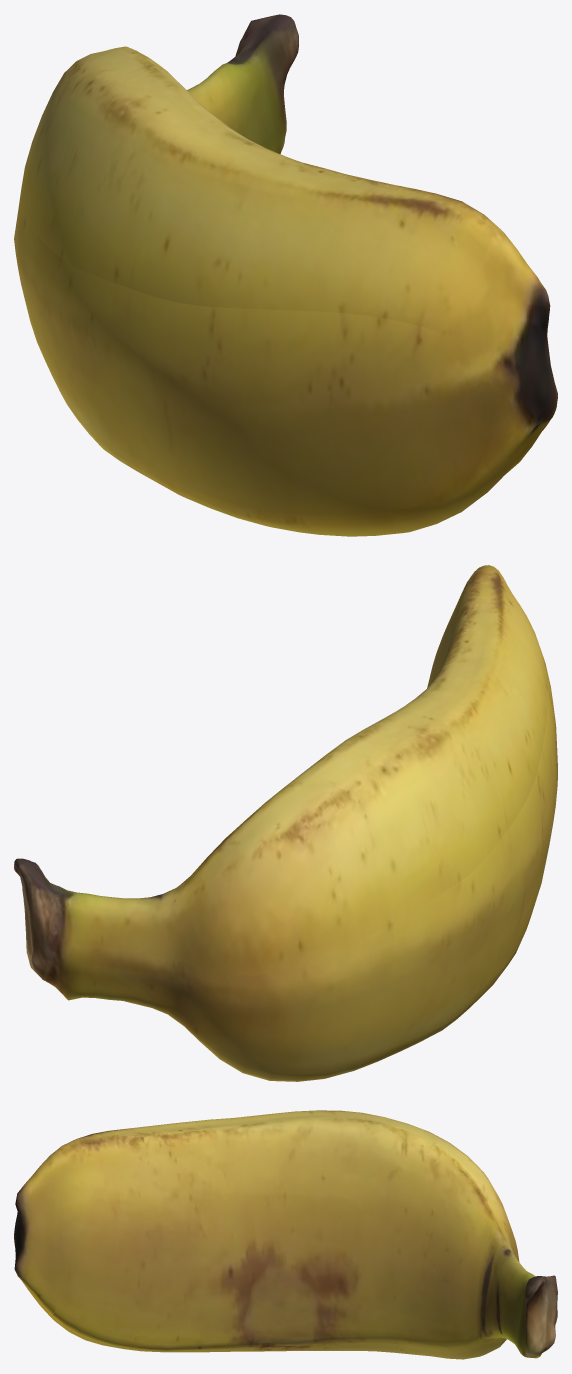
The model's file is banana.glb.
The picture shows the model from 3 angles, top to bottom: view 1: azimuth 30°, elevation 25°; view 2: azimuth 150°, elevation 25°; view 3: azimuth 270°, elevation 25°; orthographic projection. The views are drawn at different scales.
Parts seen in each view (by area): view 1: bananas_b.001; view 2: bananas_b.001; view 3: bananas_b.001.
Boxes of the visible parts, x1=… form: bananas_b.001: x1=14, y1=14, x2=557, y2=536; bananas_b.001: x1=14, y1=565, x2=557, y2=1081; bananas_b.001: x1=14, y1=1110, x2=557, y2=1359.
Bounding box in the file's own units: 2.29 × 2.13 × 4.37.
1 material, 1 textured.
